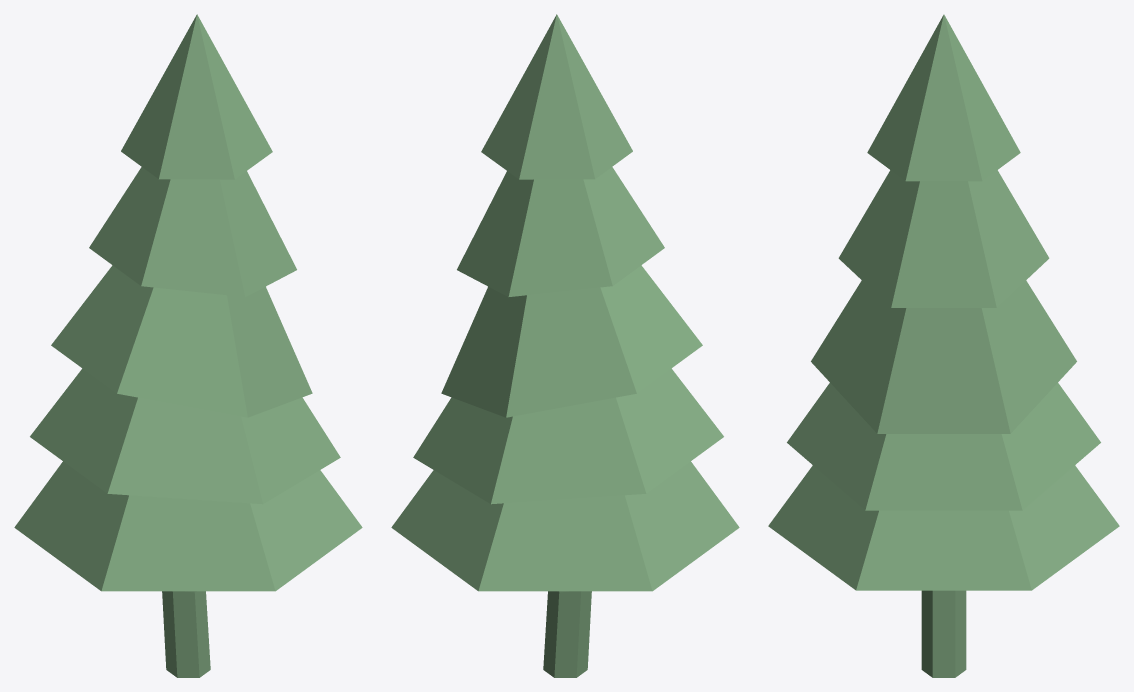
The model's file is tree1.dae.
3 views of the same model, side by side, from view 1: azimuth 30°, elevation 25°; view 2: azimuth 150°, elevation 25°; view 3: azimuth 270°, elevation 25° (orthographic).
Visible parts, largest first — view 1: Tree_Type1_04_mesh; view 2: Tree_Type1_04_mesh; view 3: Tree_Type1_04_mesh.
Boxes of the visible parts, left/top/right/bottom form: Tree_Type1_04_mesh: left=14, top=14, right=362, bottom=677; Tree_Type1_04_mesh: left=391, top=14, right=739, bottom=677; Tree_Type1_04_mesh: left=768, top=14, right=1119, bottom=677.
Bounding box in the file's own units: 1.84 × 2.12 × 4.39.
